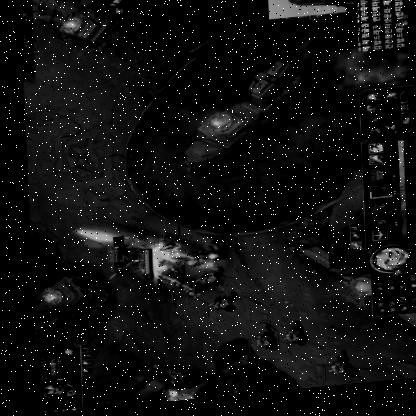streamer: (271, 0, 352, 22)
